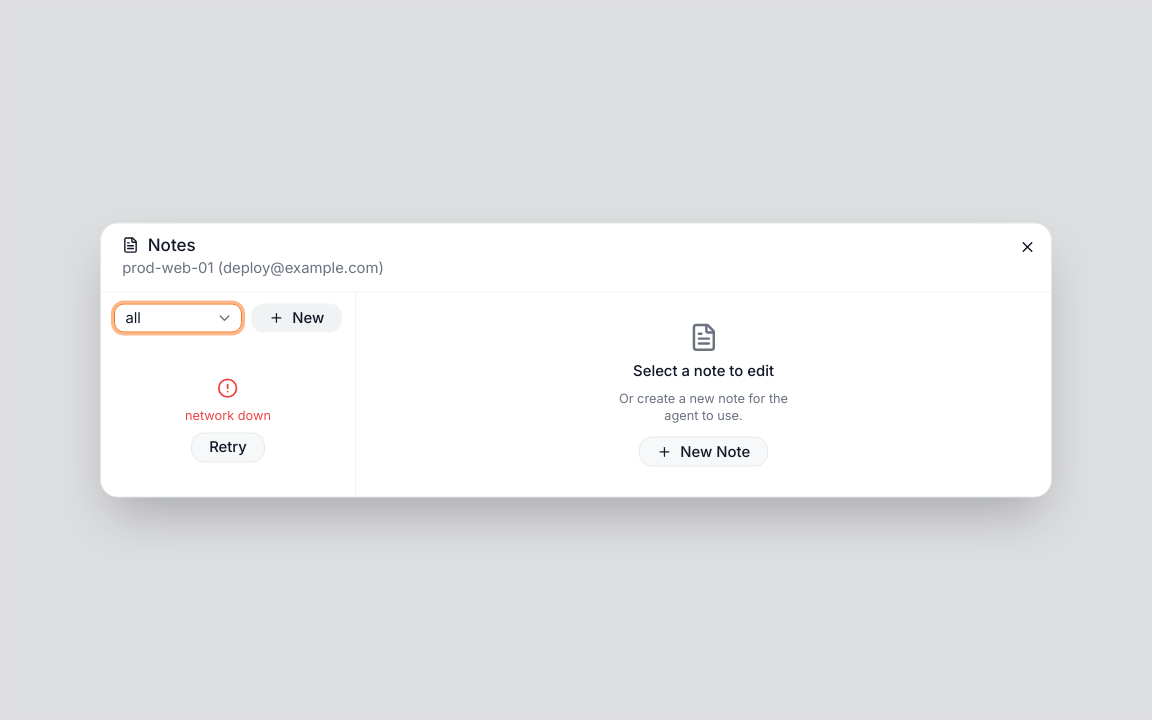
it: MachineNotesDialog › shows an error with retry when the fetch fails
Expected: the text "network down" is shown, [185,407,271,424]
Click the button "Retry": [228, 448] box [191,433,265,462]
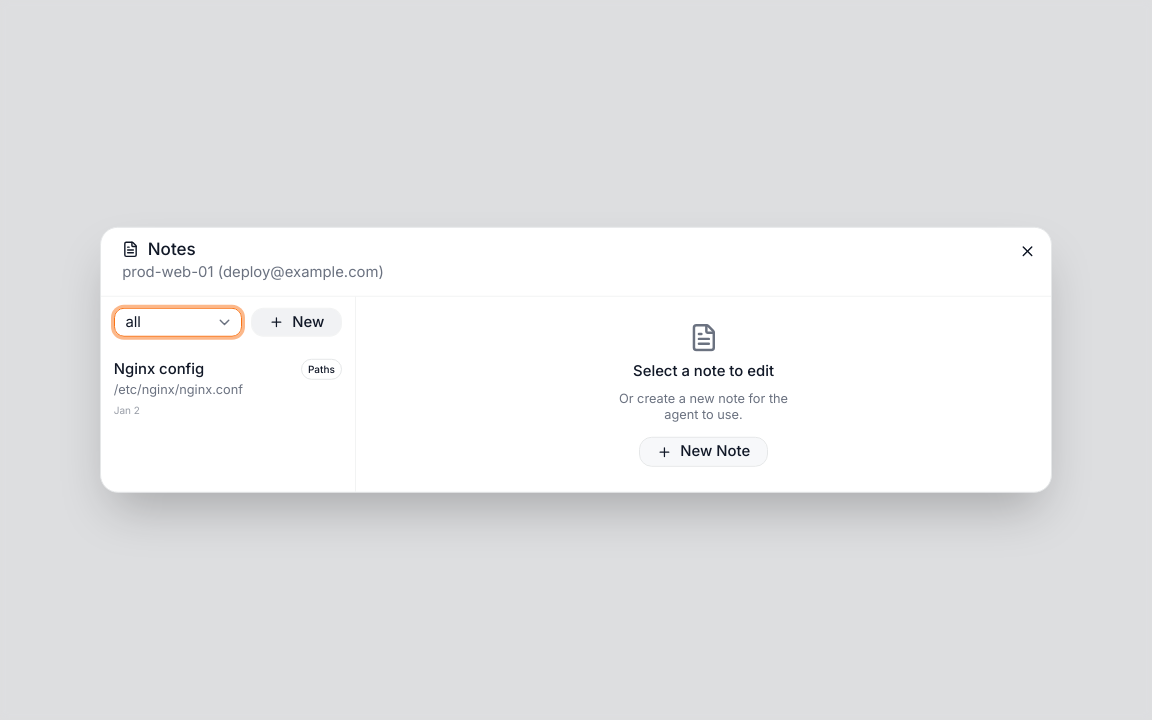
Now the text "Nginx config" is shown, box [114,359,204,377]
